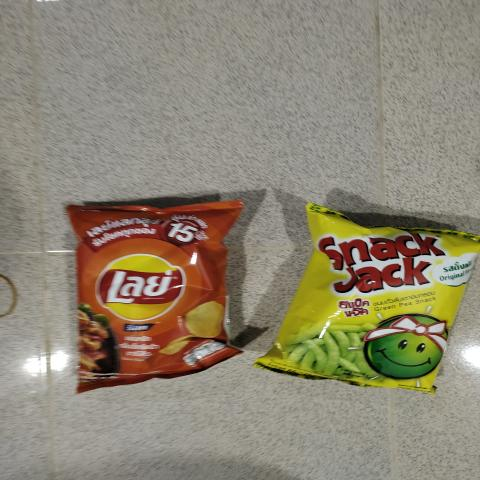snack_jack: (312, 222, 436, 387)
